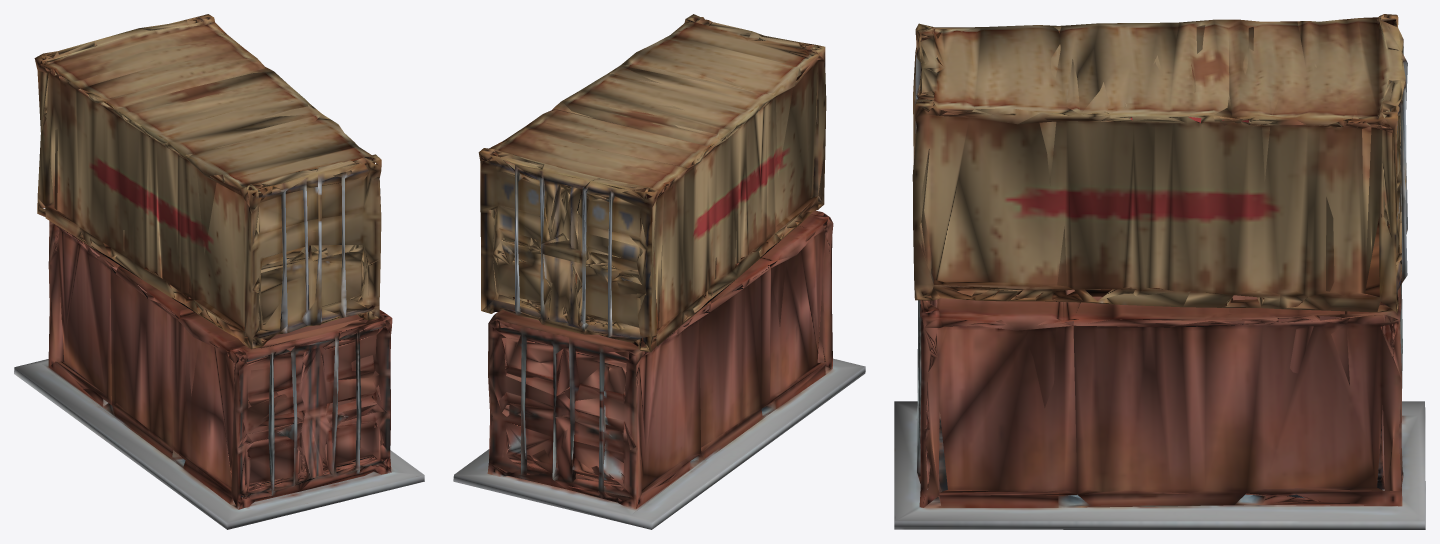
3 views of the same model, side by side, from view 1: azimuth 30°, elevation 25°; view 2: azimuth 150°, elevation 25°; view 3: azimuth 270°, elevation 25° (orthographic). The views are drawn at different scales.
Parts seen in each view (by area): view 1: repaired; view 2: repaired; view 3: repaired.
Boxes of the visible parts, x1,y1,x2,y2 form: repaired: [14, 14, 424, 529]; repaired: [453, 14, 865, 529]; repaired: [894, 14, 1425, 529].
Bounding box in the file's own units: 0.5351 × 0.8411 × 1.
1 material, 1 textured.
